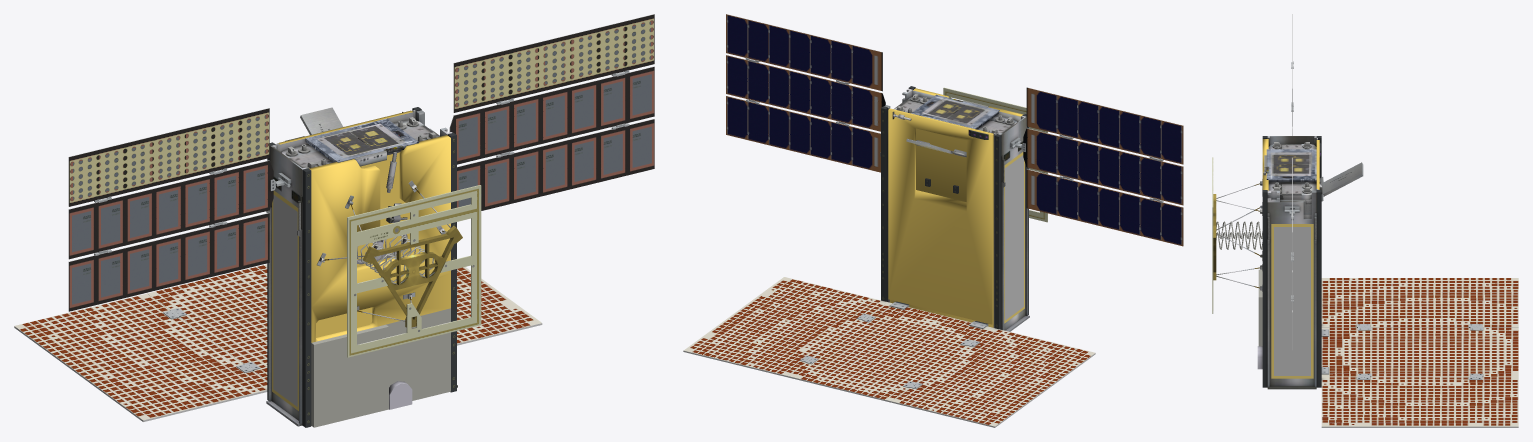
File: sc_cubesat_flock.glb
3 views of the same model, side by side, from view 1: azimuth 30°, elevation 25°; view 2: azimuth 150°, elevation 25°; view 3: azimuth 270°, elevation 25° (orthographic). The views are drawn at different scales.
Parts seen in each view (by area): view 1: MarCo_BUS, Reflectarray_left, Antenna, Array_left_middle, Array_left_top, Array_right_top, Array_left_bottom, Array_right_middle, Array_right_bottom, Reflectarray_middle, silver_squares_side, Reflectarray_right (+2 smaller); view 2: MarCo_BUS, Reflectarray_left, Reflectarray_middle, Reflectarray_right, Array_left_middle, Array_left_top, Array_left_bottom, Array_right_top, Array_right_middle, Array_right_bottom, silver_squares_side, Antenna; view 3: Reflectarray_right, Reflectarray_middle, Reflectarray_left, MarCo_BUS, silver_squares_side, Antenna, gold_tape_sides, Antenna_Springs.
Boxes of the visible parts, x1,y1,x2,y2 form: MarCo_BUS: (267, 107, 456, 427); Reflectarray_left: (14, 293, 267, 421); Antenna: (266, 107, 481, 426); Array_left_middle: (68, 160, 275, 259); Array_left_top: (68, 108, 269, 206); Array_right_top: (453, 14, 654, 112); Array_left_bottom: (68, 212, 269, 311); Array_right_middle: (449, 66, 654, 164); Array_right_bottom: (457, 119, 654, 210); Reflectarray_middle: (147, 264, 267, 380); silver_squares_side: (273, 195, 297, 406); Reflectarray_right: (457, 267, 542, 345); MarCo_BUS: (881, 86, 1028, 330); Reflectarray_left: (891, 327, 1095, 427); Reflectarray_middle: (787, 301, 991, 402); Reflectarray_right: (683, 277, 887, 376); Array_left_middle: (1021, 128, 1183, 205); Array_left_top: (1026, 87, 1183, 164); Array_left_bottom: (1026, 169, 1183, 246); Array_right_top: (726, 14, 882, 91); Array_right_middle: (726, 55, 885, 131); Array_right_bottom: (726, 96, 880, 172); silver_squares_side: (1005, 155, 1023, 320); Antenna: (880, 87, 1047, 331); Reflectarray_right: (1321, 376, 1518, 427); Reflectarray_middle: (1321, 327, 1518, 376); Reflectarray_left: (1321, 278, 1518, 327); MarCo_BUS: (1257, 136, 1321, 387); silver_squares_side: (1274, 227, 1310, 375); Antenna: (1212, 157, 1363, 389); gold_tape_sides: (1271, 224, 1313, 378); Antenna_Springs: (1216, 221, 1262, 249).
Bounding box in the file's own units: 1.73 × 0.8735 × 1.03.
7 materials, 3 textured.
